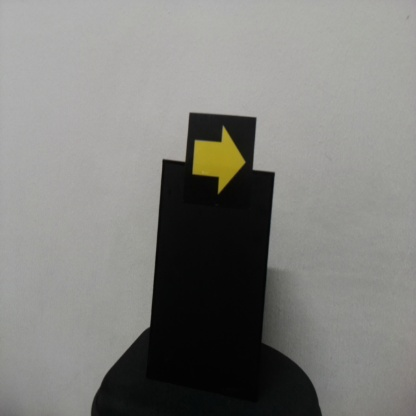id_3: (189, 115, 253, 209)
